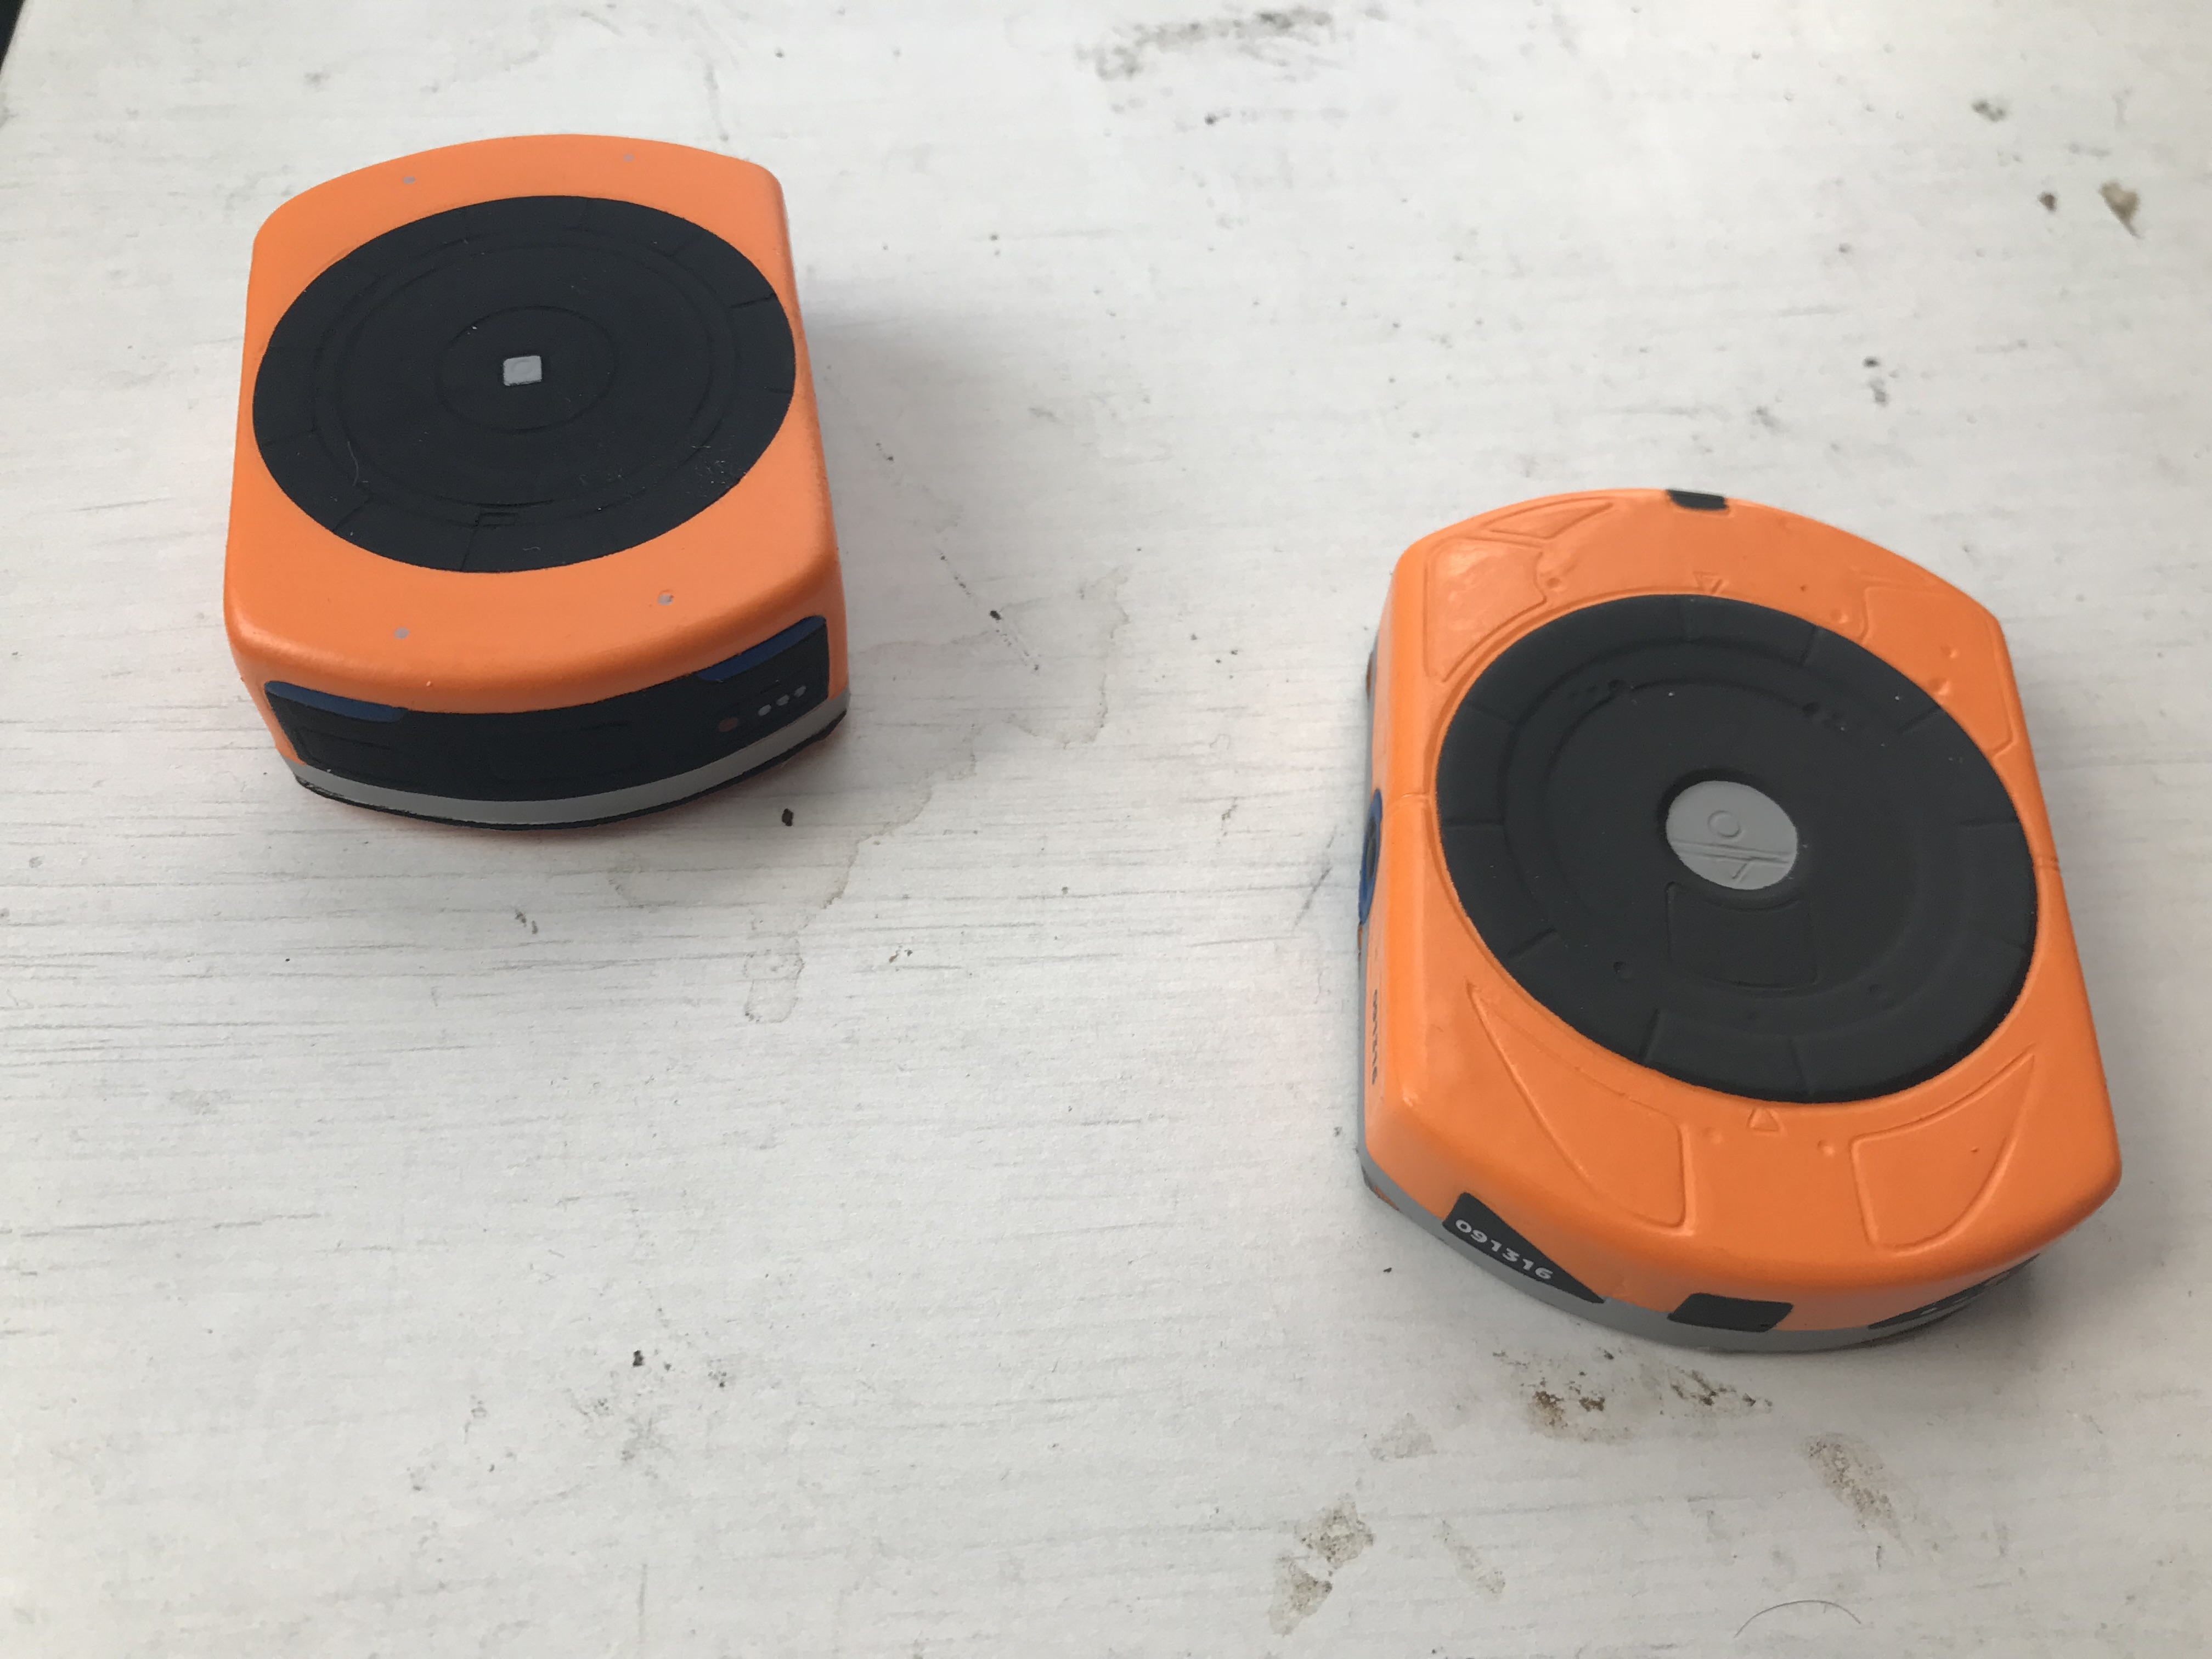amazon_bot: (1339, 479, 2146, 1371), (214, 103, 894, 842)
